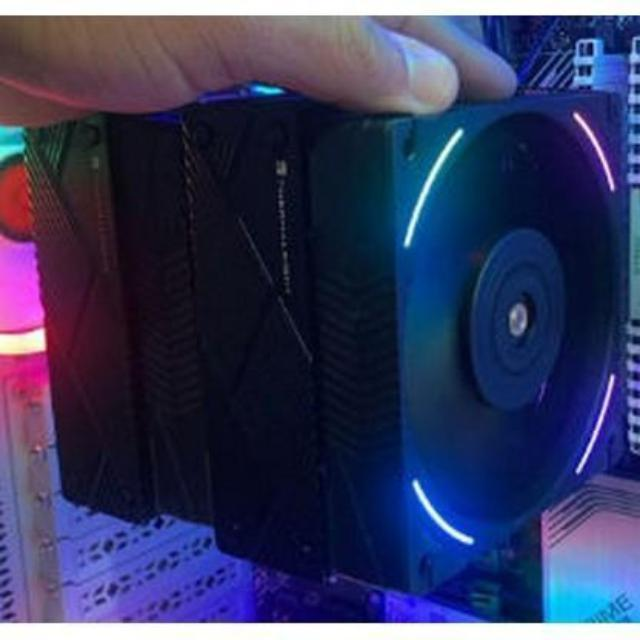CPU_Fan: (19, 75, 634, 572)
